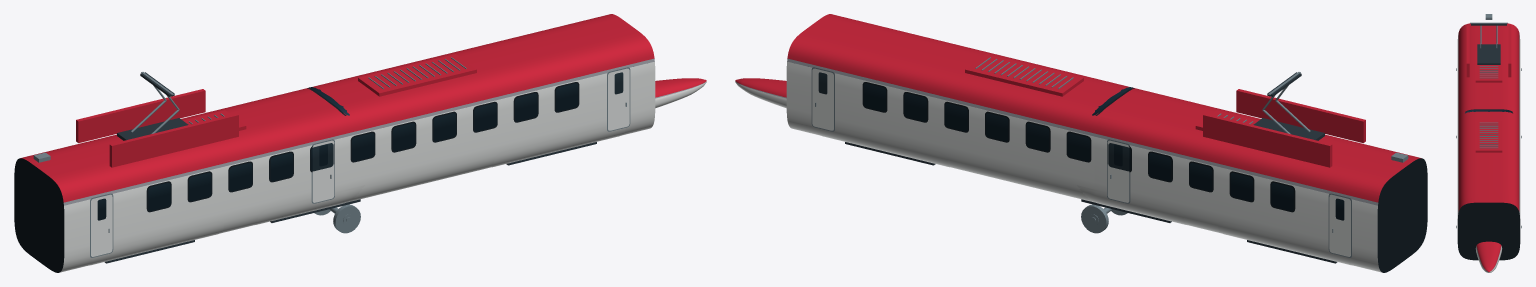
Rendered from komachi.glb.
3 views of the same model, side by side, from view 1: azimuth 30°, elevation 25°; view 2: azimuth 150°, elevation 25°; view 3: azimuth 270°, elevation 25° (orthographic). The views are drawn at different scales.
Parts seen in each view (by area): view 1: car-shell__LIVERY_0, car-shell__CAB_PAINT, cab-shell__CAB_PAINT, cab-shell__LIVERY_0, body__GLASS.001, pantograph__LIVERY_0, body__RUBBER, body__RUBBER.001, body__LIVERY_0, cab-skirt__CAB_PAINT, cab-skirt__CAB_PAINT.001, body__CAB_PAINT (+8 smaller); view 2: car-shell__LIVERY_0, car-shell__CAB_PAINT, cab-shell__CAB_PAINT, cab-shell__LIVERY_0, body__GLASS.001, pantograph__LIVERY_0, body__RUBBER.001, body__RUBBER, body__LIVERY_0, cab-skirt__CAB_PAINT, cab-skirt__CAB_PAINT.001, body__CAB_PAINT (+8 smaller); view 3: car-shell__LIVERY_0, body__RUBBER.001, cab-shell__LIVERY_0, body__LIVERY_0, pantograph__MACHINERY, body__STAINLESS.001, car-shell__CAB_PAINT, pantograph__LIVERY_0, car-shell__LIVERY_1, cab-shell__CAB_PAINT, pantograph__STAINLESS, cab-window-glazing__CAB_GLASS (+2 smaller).
Part boxes in pixels (<box>): car-shell__LIVERY_0: <box>21,14,654,194</box>; car-shell__CAB_PAINT: <box>62,61,655,270</box>; cab-shell__CAB_PAINT: <box>60,81,706,272</box>; cab-shell__LIVERY_0: <box>20,78,706,202</box>; body__GLASS.001: <box>97,72,623,220</box>; pantograph__LIVERY_0: <box>76,89,238,167</box>; body__RUBBER: <box>14,151,293,272</box>; body__RUBBER.001: <box>14,82,579,272</box>; body__LIVERY_0: <box>183,54,476,130</box>; cab-skirt__CAB_PAINT: <box>90,185,364,264</box>; cab-skirt__CAB_PAINT.001: <box>90,126,625,265</box>; body__CAB_PAINT: <box>91,140,334,256</box>; car-shell__LIVERY_0: <box>787,14,1420,194</box>; car-shell__CAB_PAINT: <box>786,61,1379,270</box>; cab-shell__CAB_PAINT: <box>735,81,1381,272</box>; cab-shell__LIVERY_0: <box>735,78,1421,202</box>; body__GLASS.001: <box>818,72,1344,220</box>; pantograph__LIVERY_0: <box>1203,89,1365,167</box>; body__RUBBER.001: <box>862,82,1427,272</box>; body__RUBBER: <box>1148,151,1427,272</box>; body__LIVERY_0: <box>965,54,1258,130</box>; cab-skirt__CAB_PAINT: <box>1077,185,1351,264</box>; cab-skirt__CAB_PAINT.001: <box>816,126,1351,265</box>; body__CAB_PAINT: <box>1107,140,1350,256</box>; car-shell__LIVERY_0: <box>1458,24,1519,211</box>; body__RUBBER.001: <box>1457,202,1520,260</box>; cab-shell__LIVERY_0: <box>1458,23,1519,271</box>; body__LIVERY_0: <box>1475,51,1502,152</box>; pantograph__MACHINERY: <box>1471,23,1506,64</box>; body__STAINLESS.001: <box>1456,66,1521,228</box>; car-shell__CAB_PAINT: <box>1457,35,1520,218</box>; pantograph__LIVERY_0: <box>1466,25,1511,77</box>; car-shell__LIVERY_1: <box>1458,33,1519,212</box>; cab-shell__CAB_PAINT: <box>1457,39,1520,272</box>; pantograph__STAINLESS: <box>1470,22,1507,48</box>; cab-window-glazing__CAB_GLASS: <box>1465,109,1512,113</box>.
Bounding box in the file's own units: 22.67 × 5.93 × 3.06.
10 materials, 2 textured.
